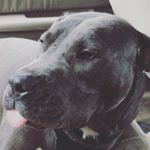puppy: (1, 5, 150, 142)
